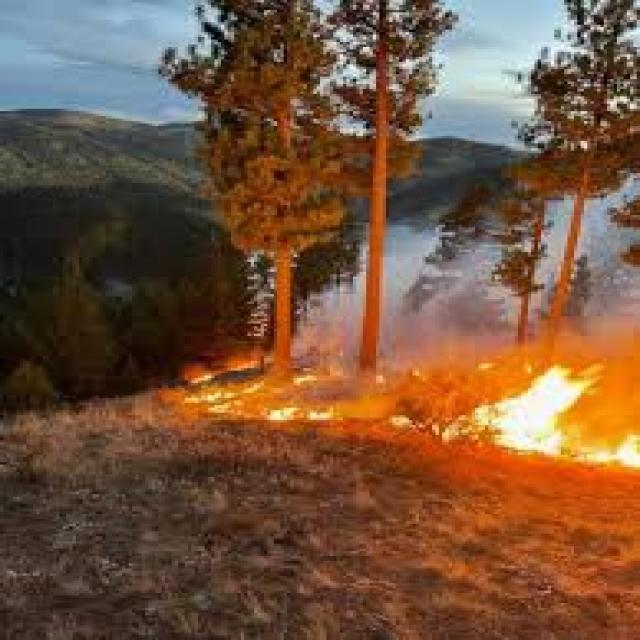Fire: (455, 363, 640, 485), (198, 374, 367, 438)
Smoke: (406, 240, 506, 401)
